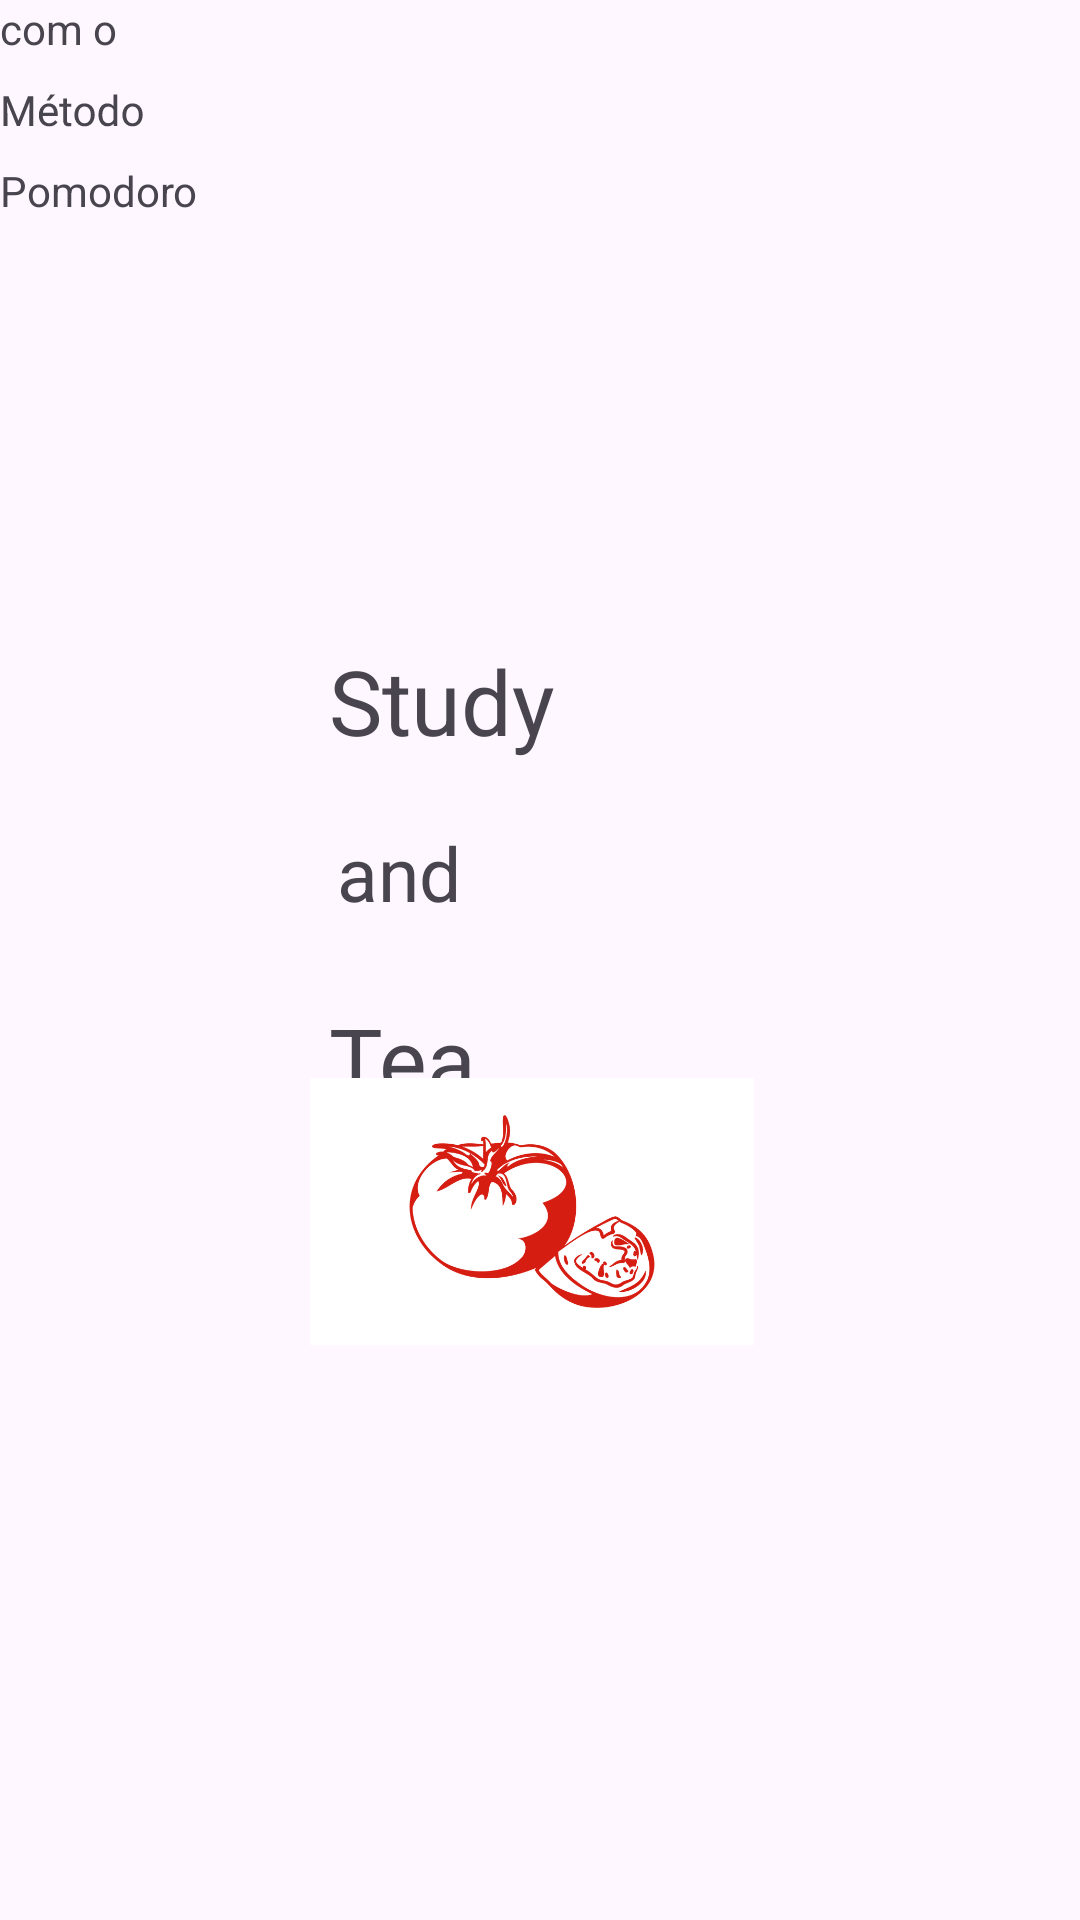

Where to tap for icons on this 1080px x 1920px app screen, as point (x, y):
tomato high contrast food: point (532, 1211)
